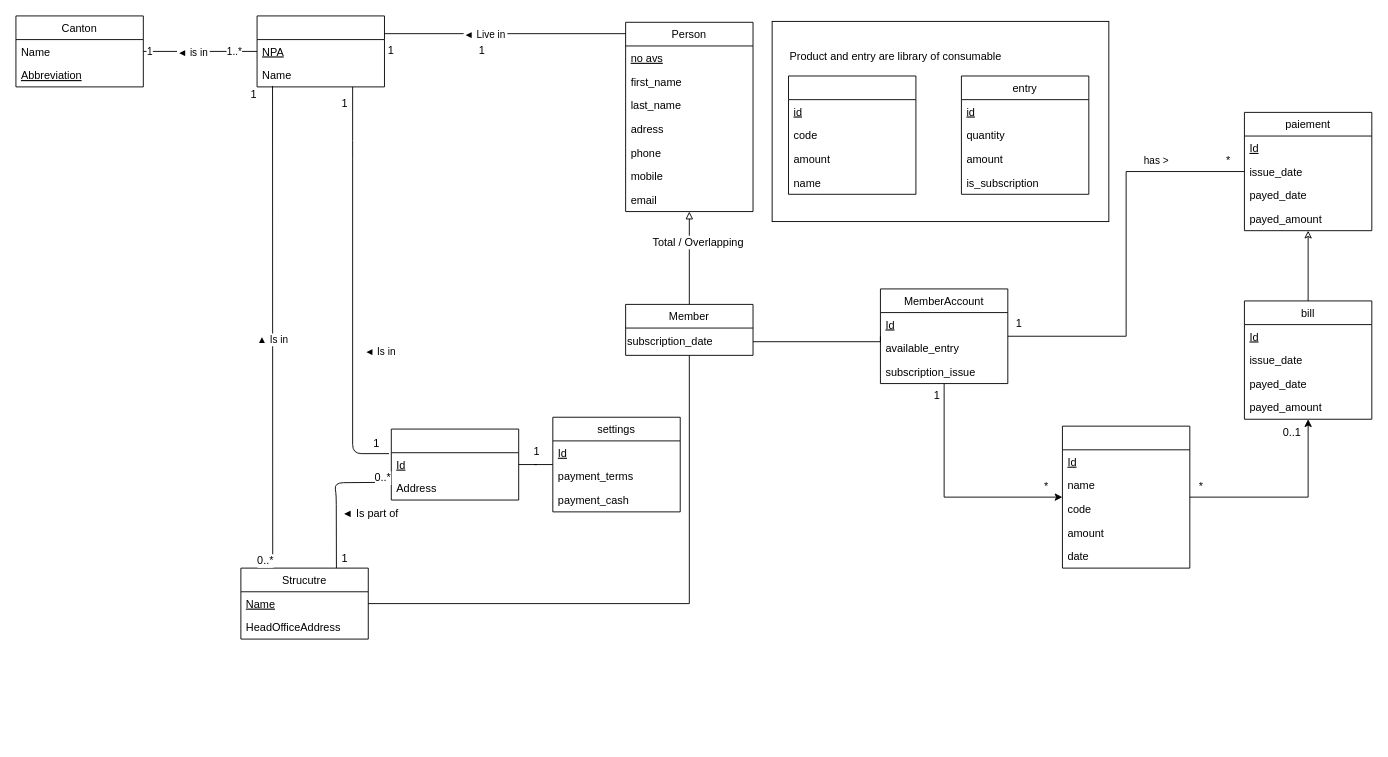
Some shapes in this 1388 by 757 pixel diagram are drawn without their labels. Here are the shapes that lost their labels. From the top down, the box of each, then its label:
(256, 15, 384, 87): City
(788, 75, 916, 194): Product
(390, 428, 519, 500): Franchise
(1062, 425, 1190, 568): consumption
